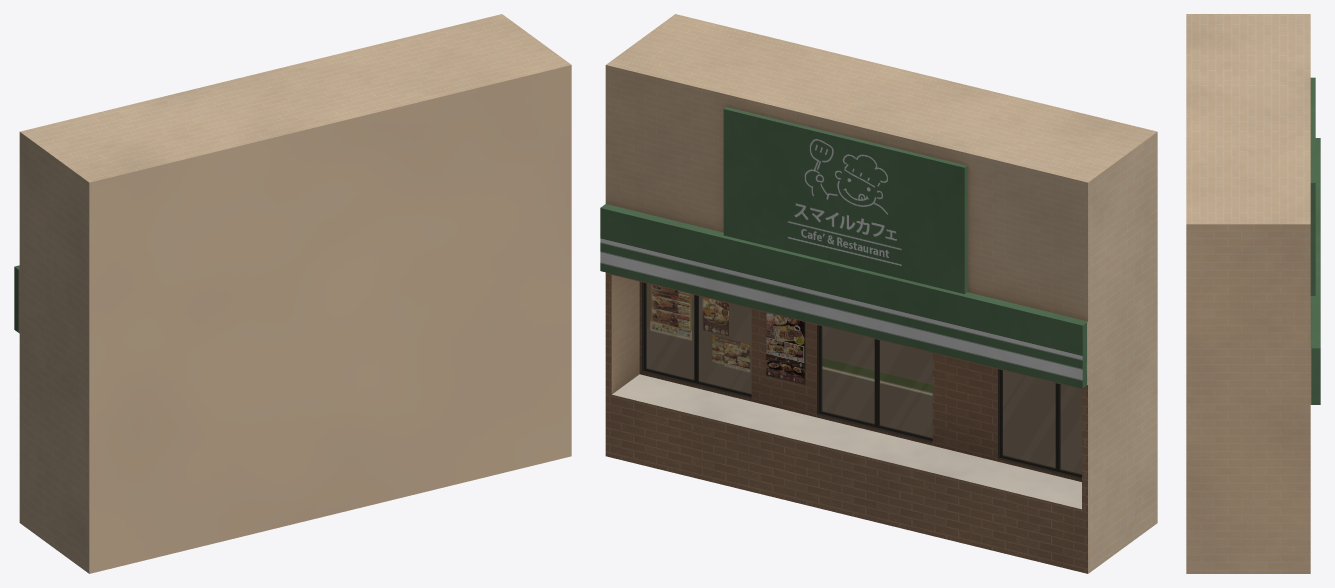
File: restaurant.dae
3 renders of one model, left to right at view 1: azimuth 30°, elevation 25°; view 2: azimuth 150°, elevation 25°; view 3: azimuth 270°, elevation 25°, orthographic. The views are drawn at different scales.
Visible parts, largest first — view 1: restaurant; view 2: restaurant; view 3: restaurant.
Part boxes in pixels (left/top/right/bottom): restaurant: left=14, top=14, right=571, bottom=573; restaurant: left=600, top=14, right=1157, bottom=573; restaurant: left=1186, top=14, right=1320, bottom=573.
Bounding box in the file's own units: 8 × 6.2 × 2.16.
